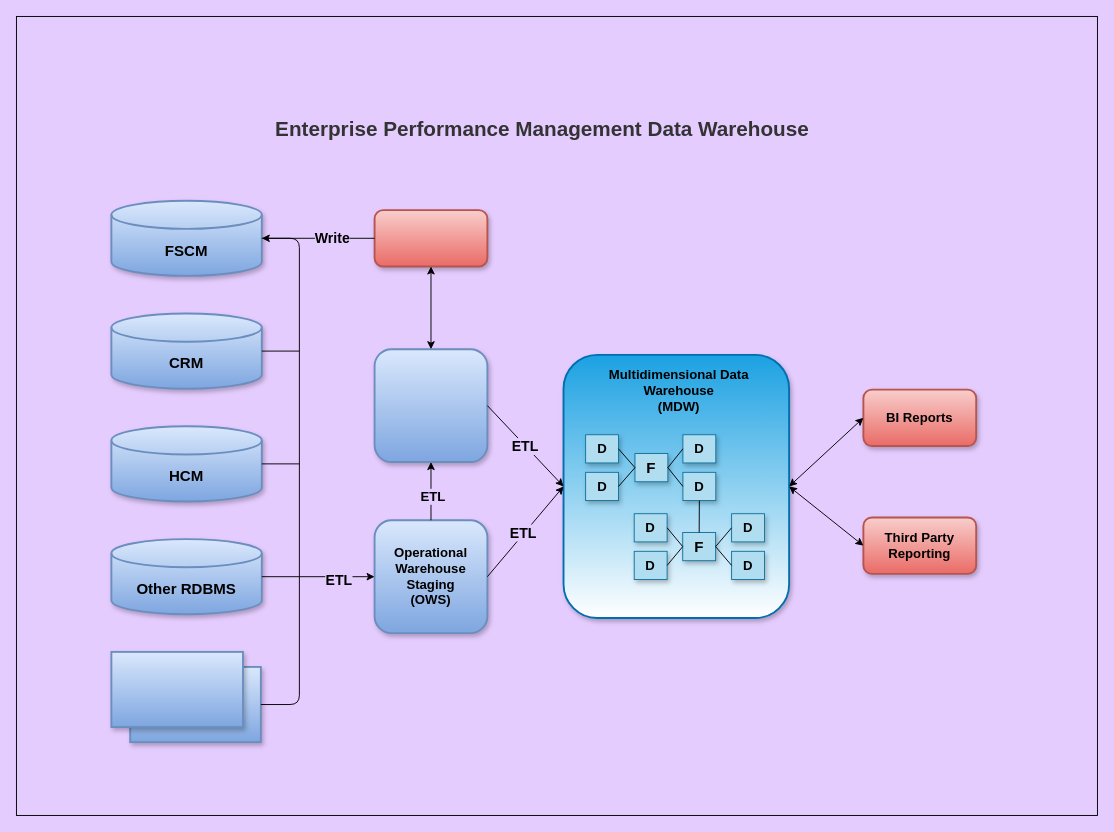
Image size: 1114x832. Some labels were removed from this diagram. Here are the shapes that lost their labels. From the top down, the centre of each, then its label:
pixel 431 239: Analytic Applications
pixel 431 406: Operational Warehouse Enriched (OWE)
pixel 177 690: Flat Files
